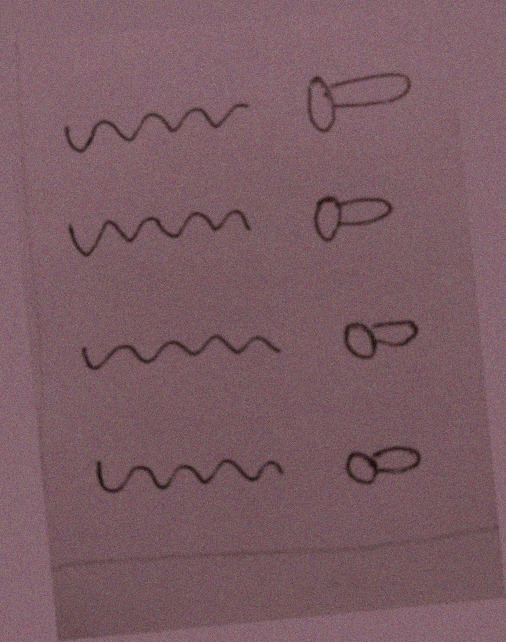switch: (290, 53, 420, 144), (300, 175, 404, 255), (329, 299, 434, 369), (331, 428, 429, 498)
text: (76, 427, 305, 517), (70, 309, 293, 396), (54, 84, 257, 173), (58, 196, 263, 272)
